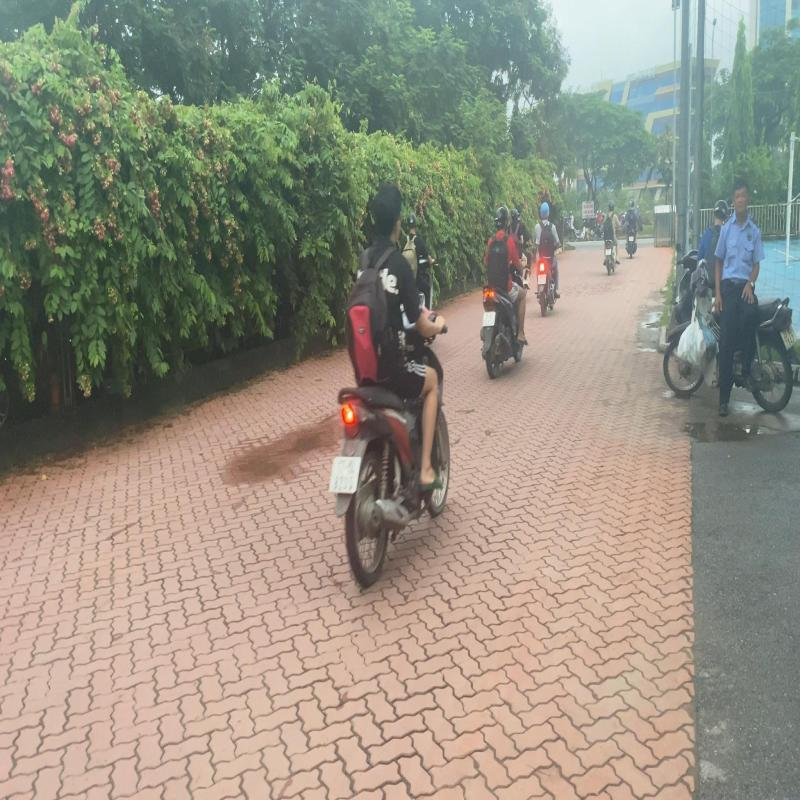licenseplate: (330, 456, 361, 494)
motorcyclist: (326, 174, 453, 590)
nohelmet: (372, 181, 402, 240)
